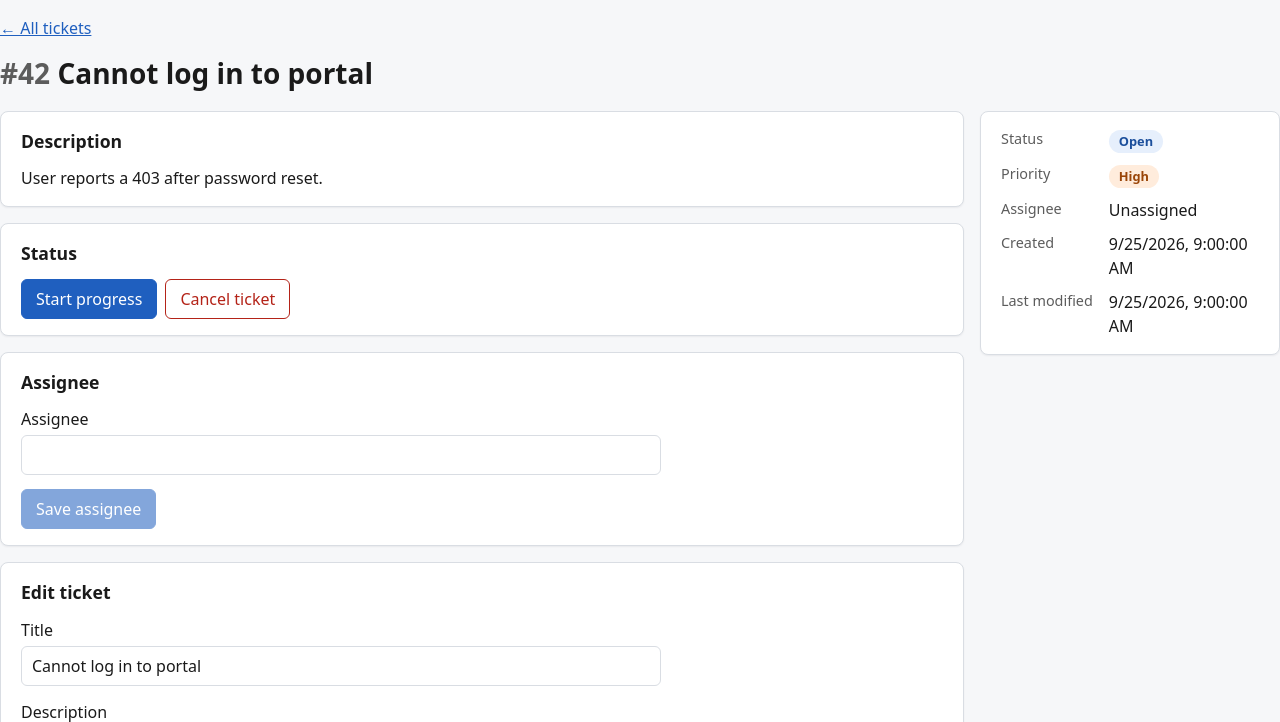
edit ticket (REQ-4, TS-FE-09) › disables Save until something changes, then sends only changed fields with the version
Replace the text in the field labelled "Title" with "Portal login broken" at (341, 666), box [21,646,661,686]
(page scrolled)
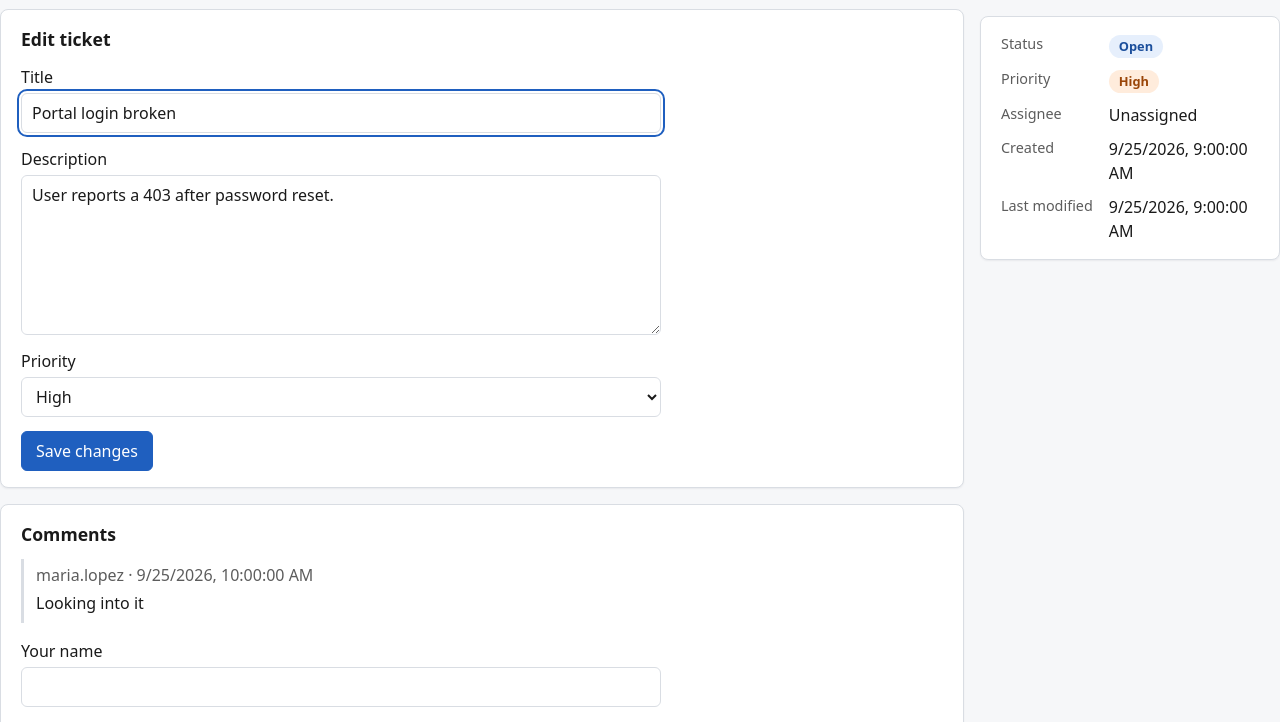
Click the button "Save changes" at (87, 451), box [21,431,153,471]
(page scrolled)
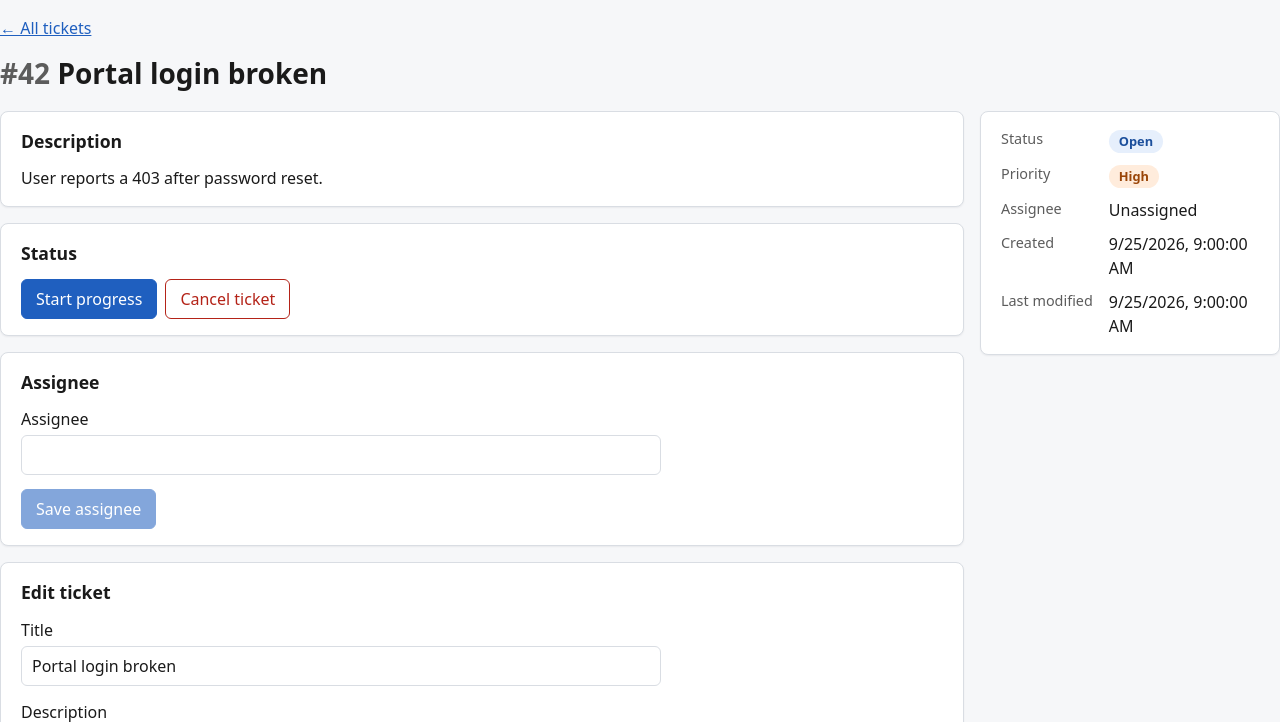
expect the heading "#42 Portal login broken" is shown: met, box [0,54,327,92]
